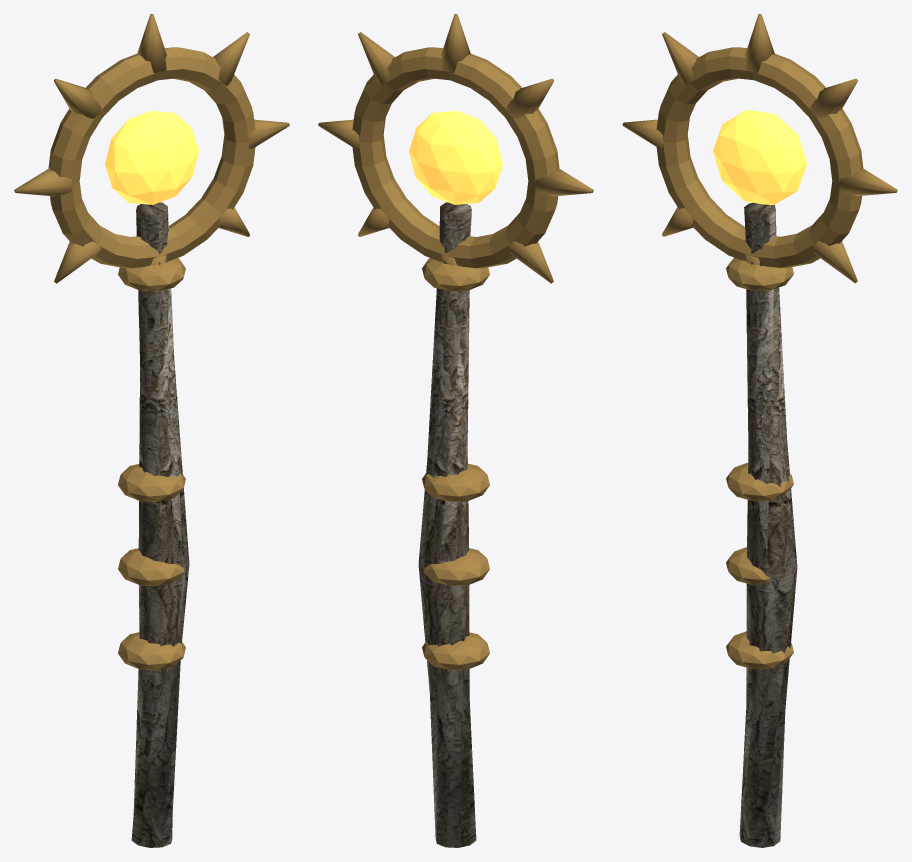
The model's file is light_staff.glb.
3 renders of one model, left to right at view 1: azimuth 30°, elevation 25°; view 2: azimuth 150°, elevation 25°; view 3: azimuth 330°, elevation 25°, orthographic.
Visible parts, largest first — view 1: Carved staff; view 2: Carved staff; view 3: Carved staff.
Part boxes in pixels (x1=…): Carved staff: x1=14, y1=14, x2=289, y2=847; Carved staff: x1=318, y1=14, x2=593, y2=847; Carved staff: x1=622, y1=14, x2=897, y2=847.
Size of the model in its own units: 0.68 by 1.96 by 0.15.
Materials: 3 (1 with a texture image).
